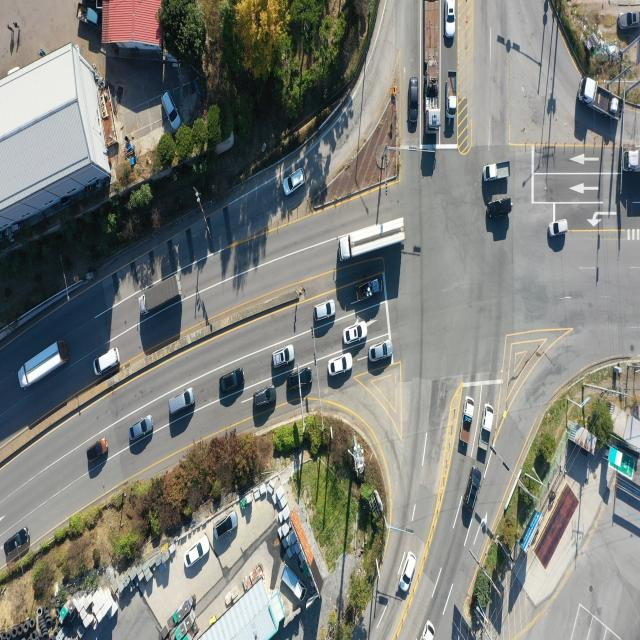car: (92, 347, 119, 377), (464, 468, 482, 512), (186, 536, 211, 567), (168, 388, 195, 416), (400, 551, 418, 592), (161, 89, 179, 129), (4, 530, 29, 557), (218, 369, 244, 394), (285, 369, 312, 393), (283, 172, 306, 200), (130, 416, 154, 442), (84, 436, 108, 461), (214, 512, 237, 538), (328, 352, 352, 376), (344, 323, 367, 346), (368, 341, 392, 363), (252, 386, 276, 408), (272, 346, 296, 368), (488, 197, 513, 218), (408, 78, 419, 124), (313, 300, 335, 322), (618, 10, 640, 29), (549, 218, 569, 236), (446, 0, 455, 37)
large_truck: (422, 0, 440, 129)
medium_truck: (337, 215, 405, 262), (17, 340, 65, 389), (138, 272, 182, 316), (577, 76, 618, 120), (624, 149, 640, 173)
small_truck: (280, 567, 304, 602), (479, 403, 495, 451), (76, 1, 102, 30), (355, 276, 379, 302), (482, 162, 510, 183), (445, 69, 456, 116), (462, 398, 472, 447), (421, 619, 435, 640)
